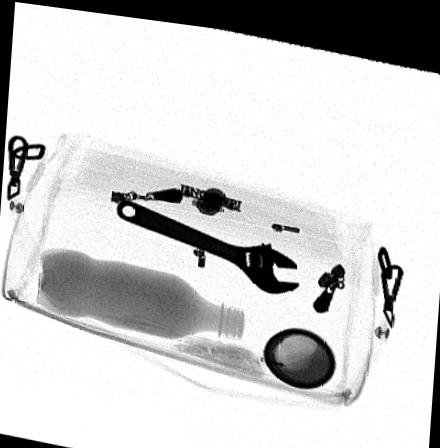Wrench: (114, 196, 300, 285)
